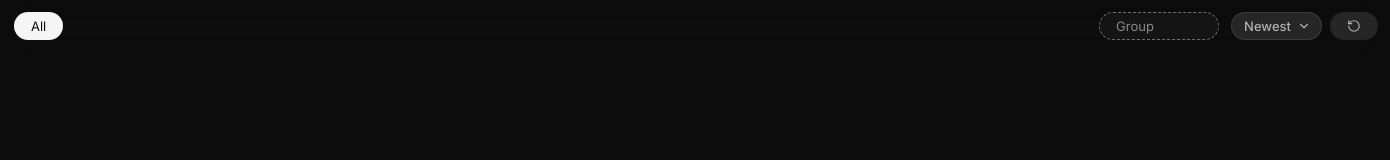
it: VaultGroupToolbar create error › says the name is already used while it is being typed
Type "read" into the field named "Group name". click: (1159, 26)
box: [1099, 12, 1219, 40]
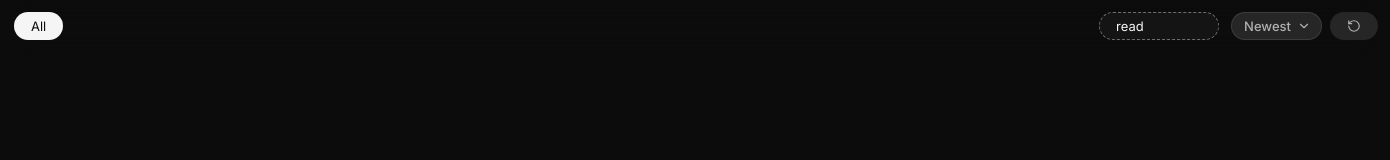
Replace the text in the field named "Group name" with "reading". click: (1159, 26)
box: [1099, 12, 1219, 40]
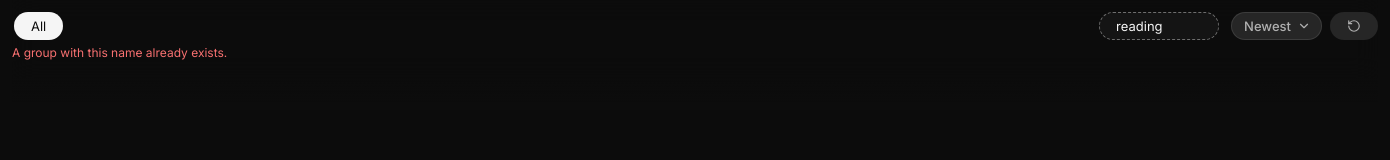
Expected: the message reads "A group with this name already exists.", [12, 45, 227, 60]
